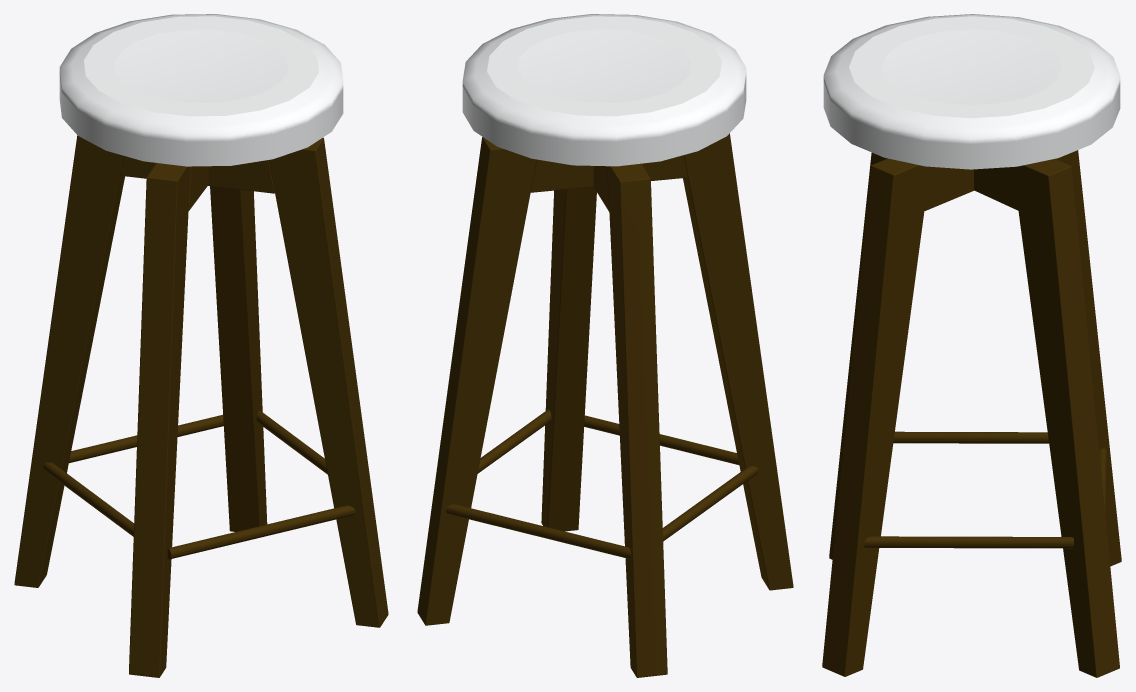
Rendered from BarStool.fbx.
3 renders of one model, left to right at view 1: azimuth 30°, elevation 25°; view 2: azimuth 150°, elevation 25°; view 3: azimuth 270°, elevation 25°, orthographic. The views are drawn at different scales.
Parts seen in each view (by area): view 1: polySurface202, polySurface195, BAR:polySurface196, polySurface200, BAR:polySurface198, BAR:polySurface195, BAR:polySurface202, polySurface196, BAR:polySurface200, BAR:polySurface194, polySurface204, polySurface198 (+4 smaller); view 2: polySurface202, polySurface196, BAR:polySurface200, BAR:polySurface198, BAR:polySurface195, polySurface198, polySurface200, BAR:polySurface202, BAR:polySurface196, polySurface195, polySurface206, BAR:polySurface197 (+6 smaller); view 3: polySurface202, polySurface195, polySurface198, BAR:polySurface195, BAR:polySurface198, BAR:polySurface202, polySurface196, BAR:polySurface196, polySurface205, BAR:polySurface194, BAR:polySurface197, polySurface203 (+4 smaller).
Boxes of the visible parts, left/top/right/bottom form: polySurface202: left=59, top=14, right=343, bottom=165; polySurface195: left=275, top=137, right=388, bottom=626; BAR:polySurface196: left=14, top=136, right=124, bottom=587; polySurface200: left=129, top=163, right=190, bottom=676; BAR:polySurface198: left=210, top=186, right=266, bottom=531; BAR:polySurface195: left=269, top=150, right=388, bottom=627; BAR:polySurface202: left=59, top=71, right=343, bottom=166; polySurface196: left=14, top=135, right=121, bottom=584; BAR:polySurface200: left=129, top=166, right=190, bottom=677; BAR:polySurface194: left=120, top=156, right=274, bottom=193; polySurface204: left=167, top=505, right=355, bottom=558; polySurface198: left=241, top=190, right=267, bottom=525; polySurface202: left=462, top=14, right=746, bottom=165; polySurface196: left=607, top=163, right=667, bottom=676; BAR:polySurface200: left=683, top=134, right=793, bottom=590; BAR:polySurface198: left=417, top=151, right=536, bottom=625; BAR:polySurface195: left=541, top=187, right=596, bottom=531; polySurface198: left=417, top=137, right=535, bottom=624; polySurface200: left=689, top=133, right=793, bottom=586; BAR:polySurface202: left=462, top=71, right=746, bottom=166; BAR:polySurface196: left=607, top=169, right=667, bottom=677; polySurface195: left=541, top=190, right=565, bottom=526; polySurface206: left=446, top=504, right=630, bottom=555; BAR:polySurface197: left=530, top=164, right=593, bottom=192; polySurface202: left=823, top=14, right=1120, bottom=167; polySurface195: left=822, top=158, right=924, bottom=675; polySurface198: left=1019, top=159, right=1119, bottom=676; BAR:polySurface195: left=822, top=165, right=930, bottom=676; BAR:polySurface198: left=1012, top=166, right=1119, bottom=677; BAR:polySurface202: left=823, top=77, right=1120, bottom=169; polySurface196: left=1074, top=150, right=1121, bottom=564; BAR:polySurface196: left=1055, top=150, right=1121, bottom=566; polySurface205: left=864, top=536, right=1073, bottom=544; BAR:polySurface194: left=924, top=167, right=973, bottom=210; BAR:polySurface197: left=974, top=167, right=1018, bottom=210; polySurface203: left=894, top=431, right=1048, bottom=440.
Bounding box in the file's own units: 1.49 × 2.95 × 1.46.
